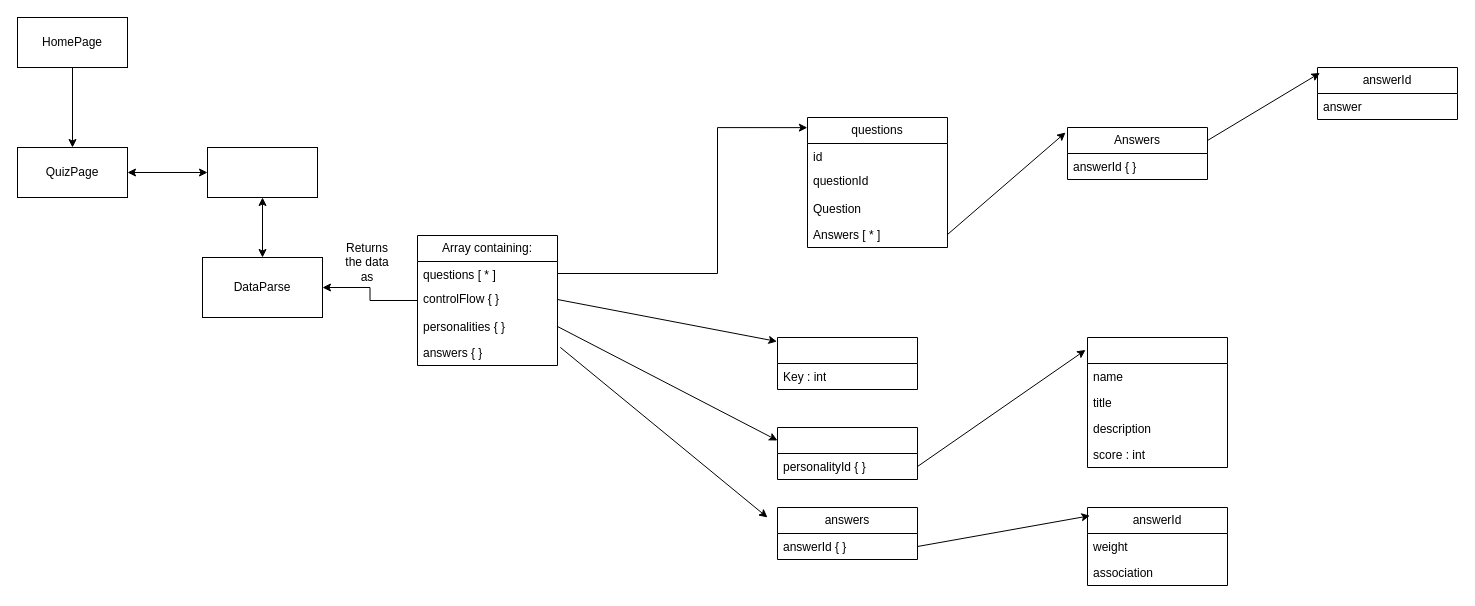
The diagram is 1475 pixels wide and 606 high, and some of its shapes have lost their labels. Here are the shapes that lost their labels. From the top down, the box of each, then its label:
(206, 146, 318, 198): DataFetch
(776, 336, 918, 390): controlFlow
(1086, 336, 1228, 468): personalityId
(776, 426, 918, 480): personalities
